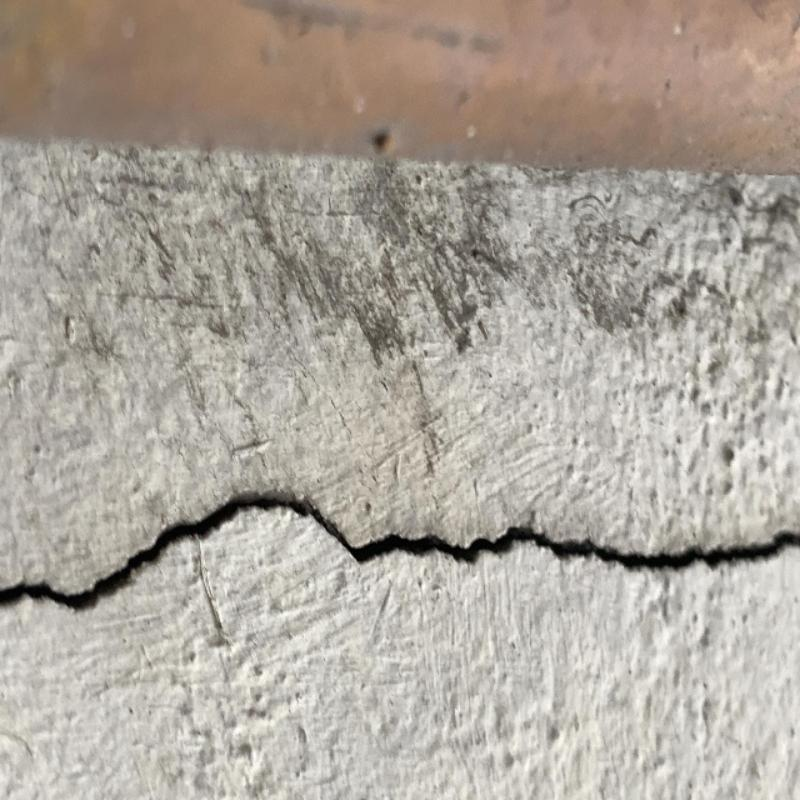crack: (0, 489, 800, 633)
